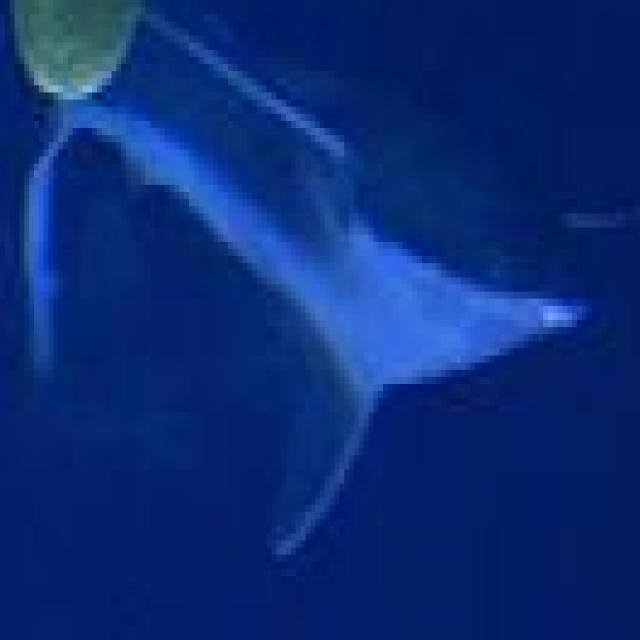fish: (0, 0, 635, 633)
